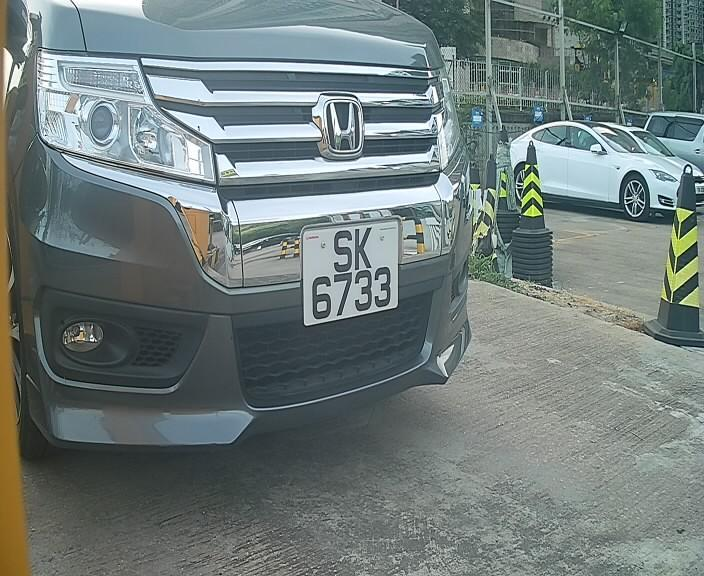privatecar: (14, 1, 498, 451)
